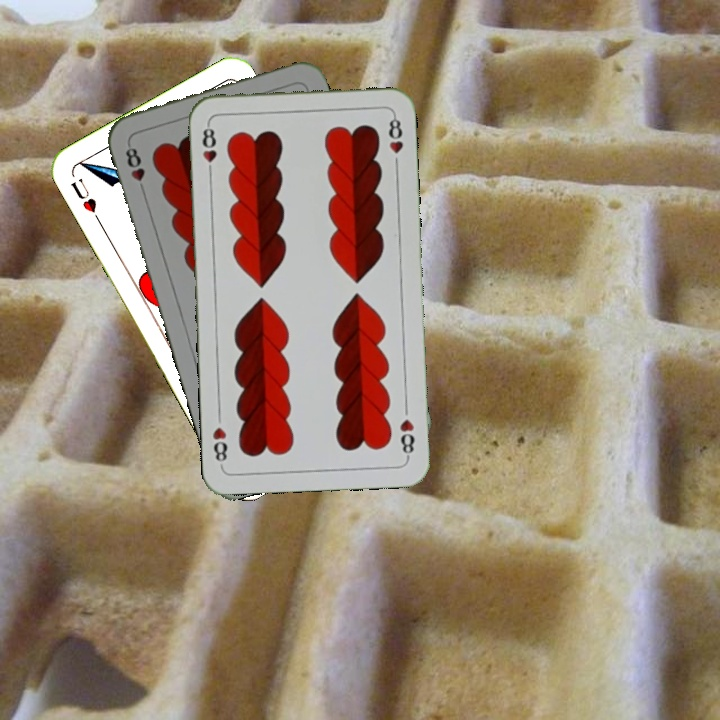H8: (121, 140, 149, 197), (198, 120, 219, 179), (395, 415, 417, 461)
HU: (66, 174, 103, 225)
